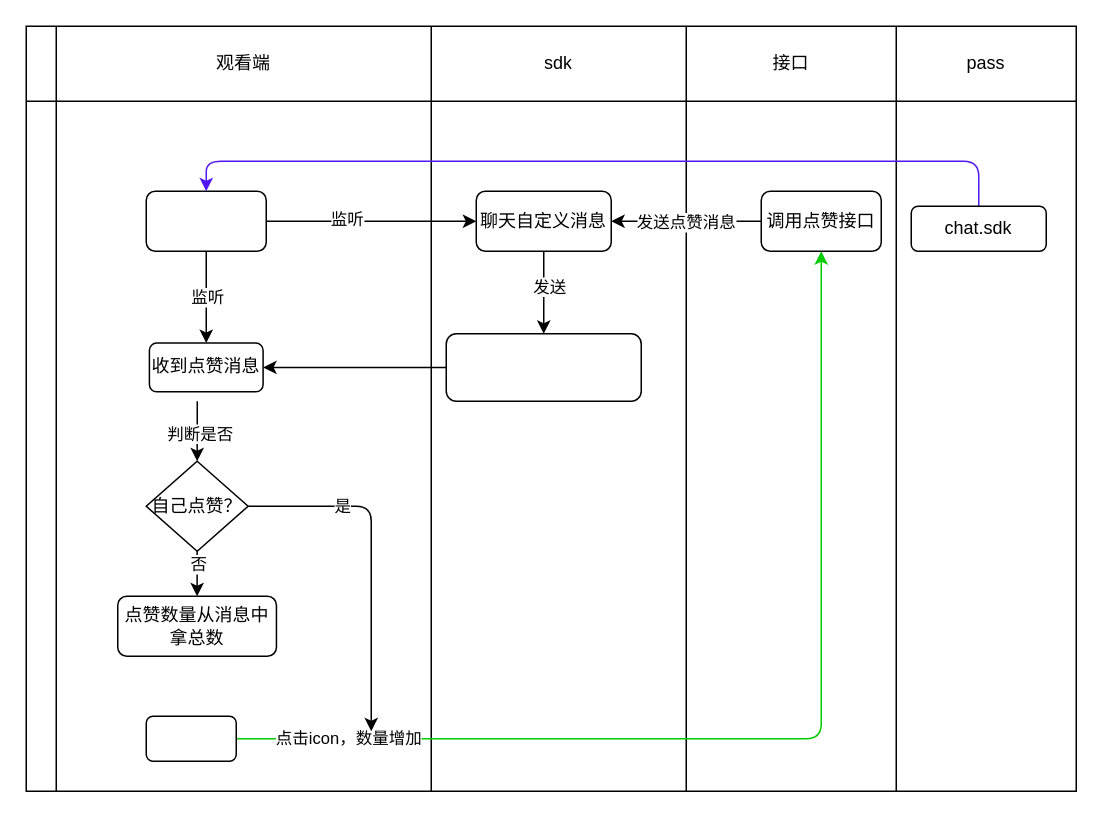
The diagram is 1103 pixels wide and 818 high, and some of its shapes have lost their labels. The centre of each missing label's shape, as x and y in pixels:
初始化聊天: (205,220)
点赞: (190,738)
自定义消息 customPraiseTotal: (543,366)
